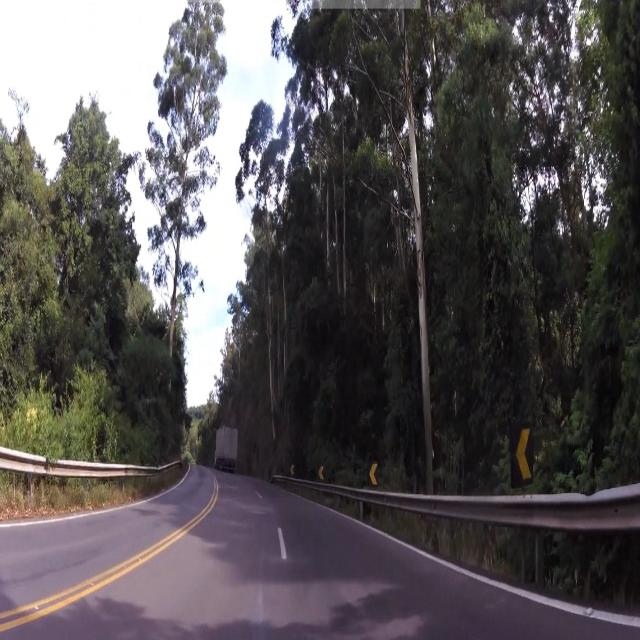Del: (506, 417, 540, 493), (368, 458, 381, 491)
